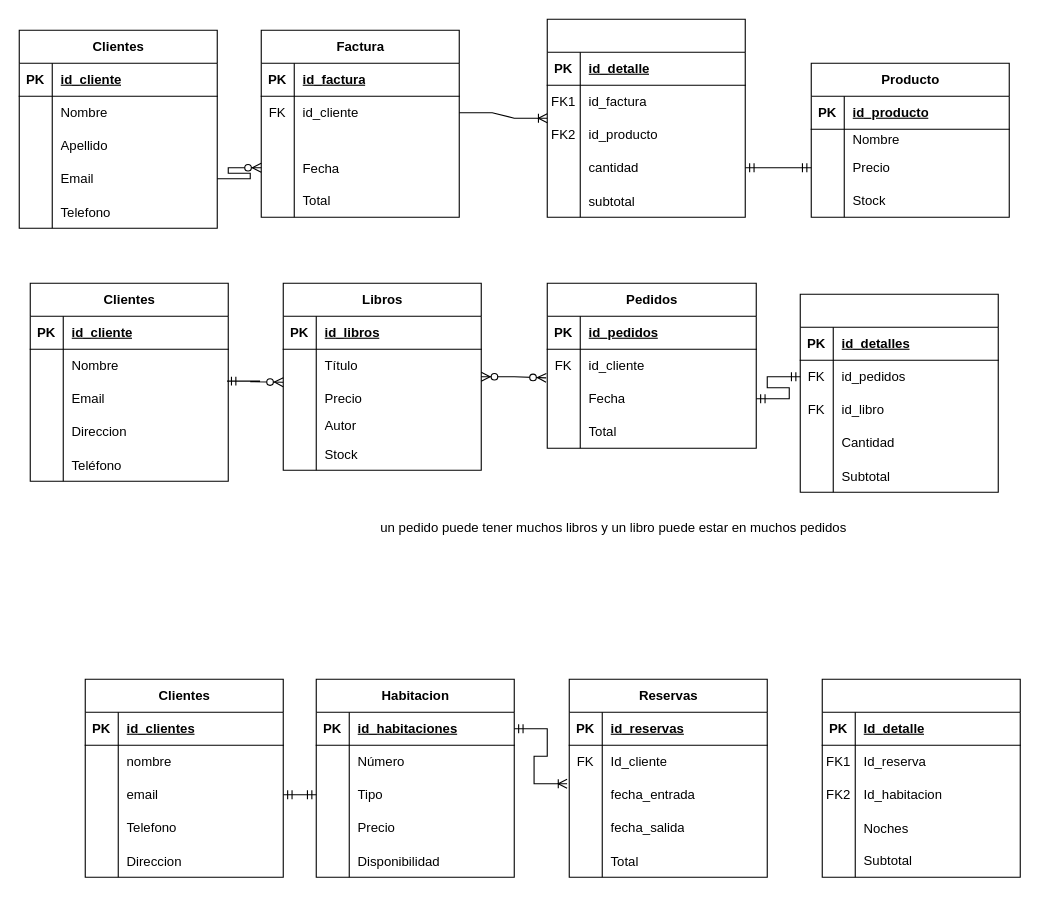
This 1040x897 diagram has some shape labels left out. The shapes that lost their labels are listed below. From the top down, each one's box as (x1, y1, x2, y2) in pixels, then its label:
(546, 18, 745, 217): Detalle_factura
(799, 293, 998, 492): Detalle de pedidos
(821, 678, 1020, 877): Detalles de reservas
